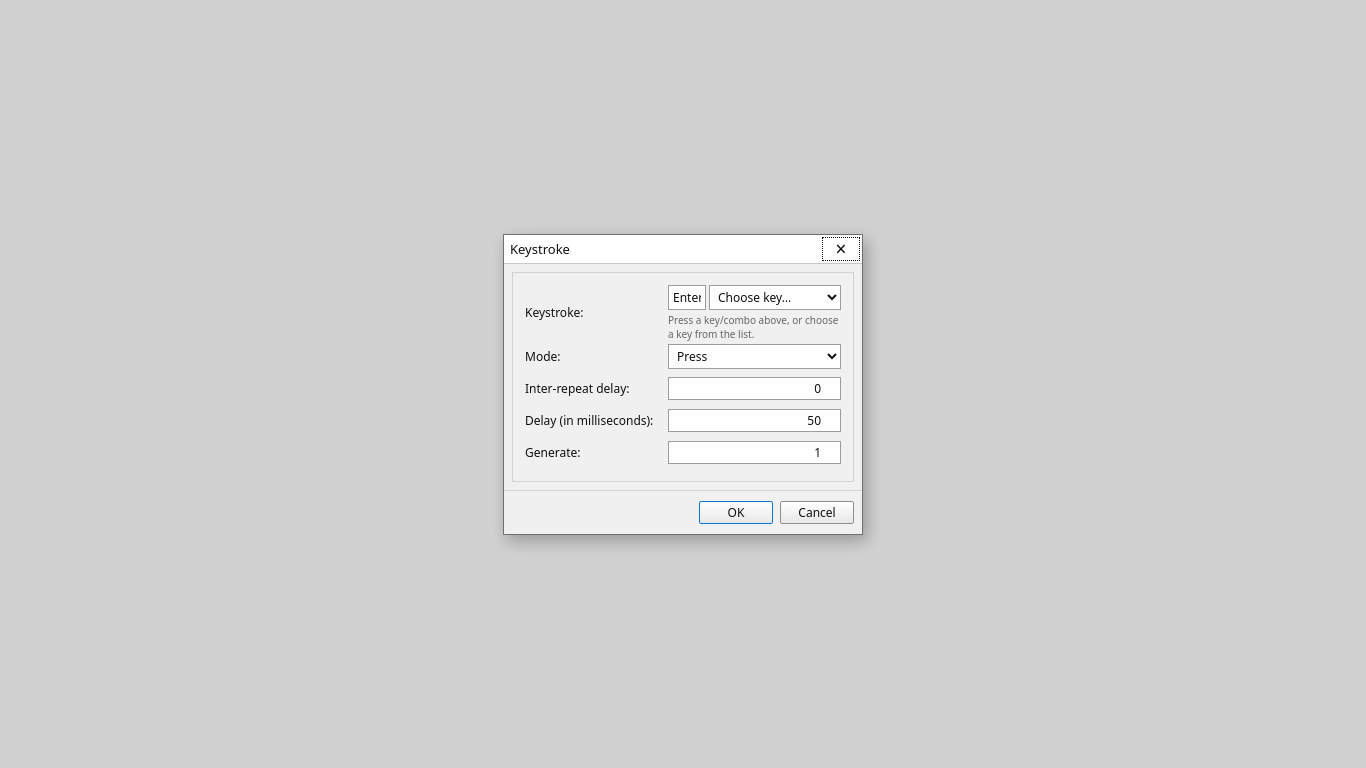
Scenario: Keystroke dialog › offers the full picker and captures a pressed chord
This screenshot has width=1366, height=768.
Select "Numpad7" in the dropdown named "Available keys": {"x": 775, "y": 297} [709,284,841,310]
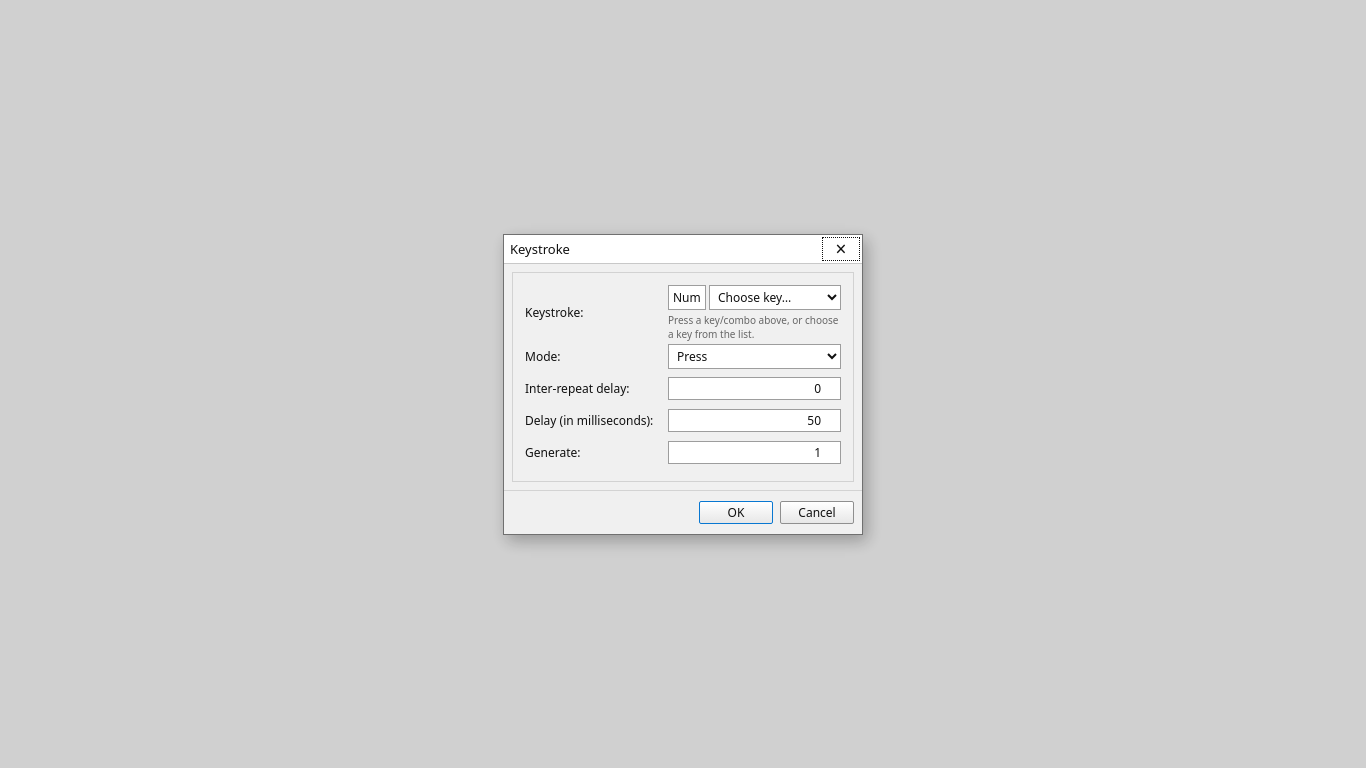
Expected: the field named "Keystroke" holds "Numpad7"
Press a in the field named "Keystroke", box [668,284,706,310]
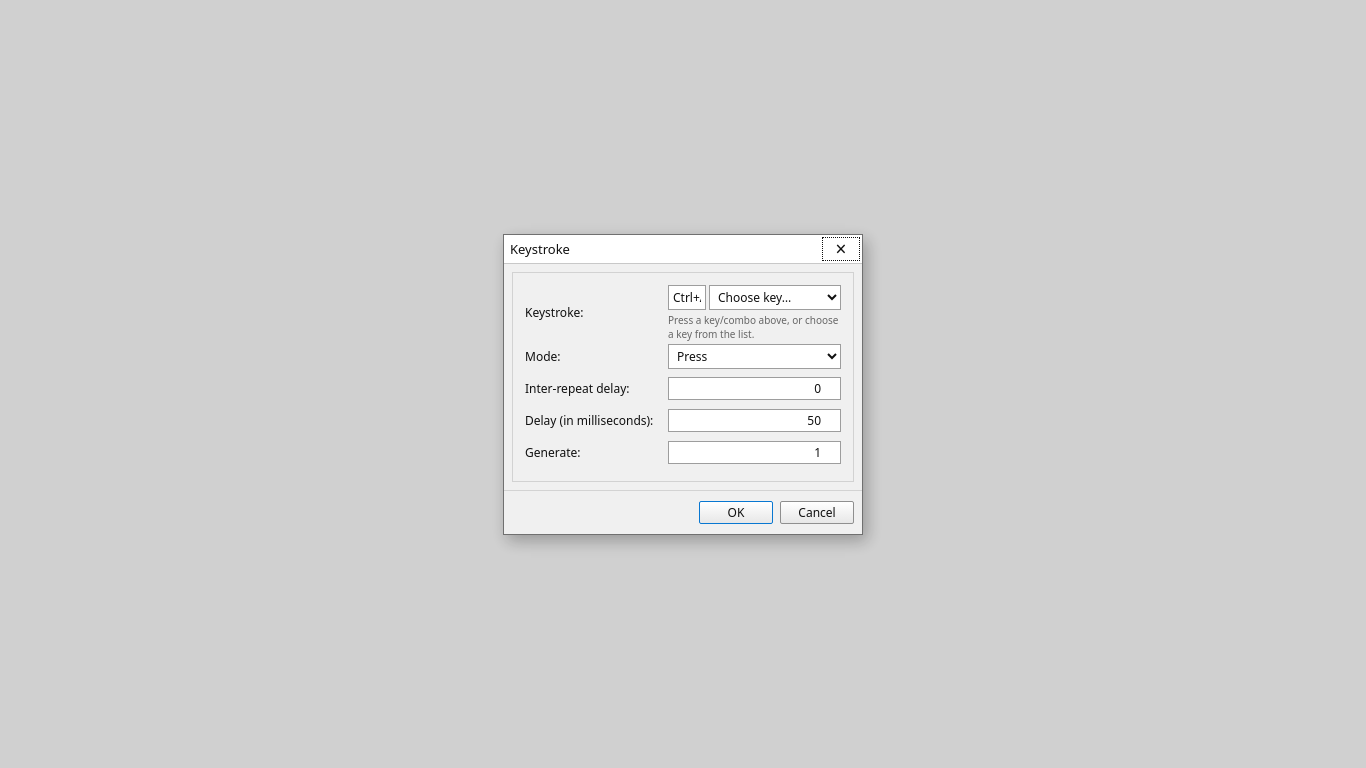
Expected: the field named "Keystroke" holds "Ctrl+A", [668,284,706,310]
